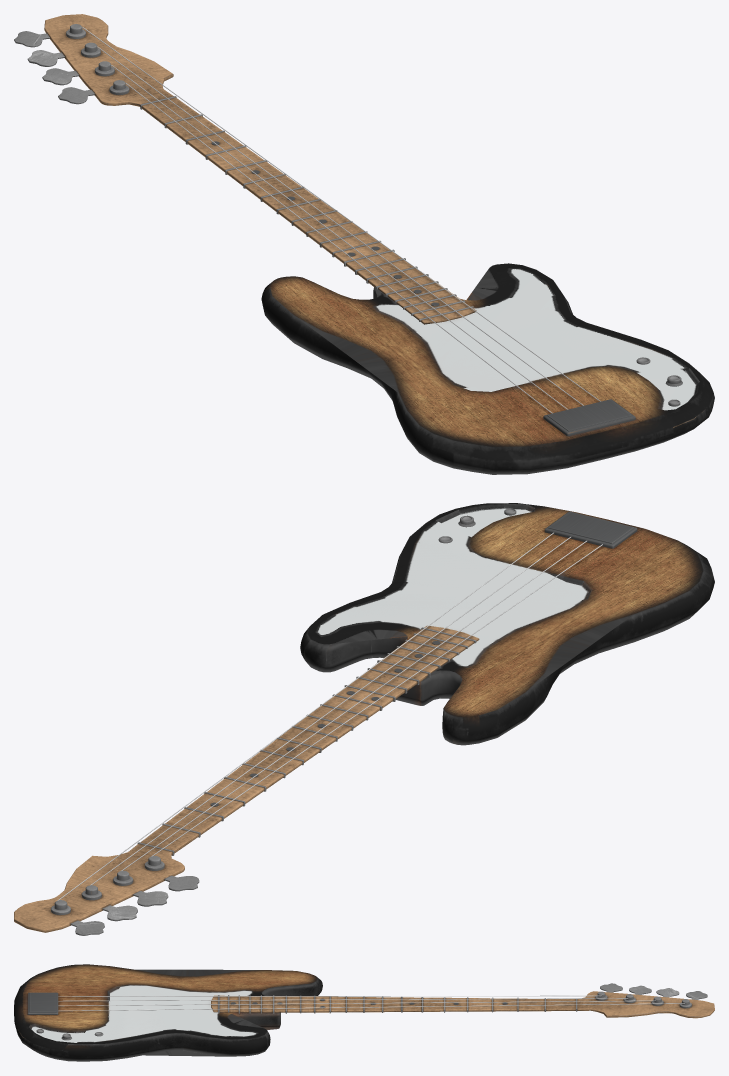
File: bassguitar.fbx
The picture shows the model from 3 angles, top to bottom: view 1: azimuth 30°, elevation 25°; view 2: azimuth 150°, elevation 25°; view 3: azimuth 270°, elevation 25°; orthographic projection. The views are drawn at different scales.
Visible parts, largest first — view 1: Cube, Cube.001, Vert.001, Cube.003, Cube.002; view 2: Cube, Cube.001, Vert.001, Cube.003, Cube.002; view 3: Cube, Cube.001, Vert.001, Cube.002, Cube.003.
Part boxes in pixels (x1=…): Cube: x1=261, y1=263, x2=714, y2=474; Cube.001: x1=44, y1=14, x2=476, y2=324; Vert.001: x1=82, y1=27, x2=600, y2=413; Cube.003: x1=140, y1=96, x2=473, y2=321; Cube.002: x1=543, y1=399, x2=635, y2=436; Cube: x1=300, y1=503, x2=714, y2=745; Cube.001: x1=14, y1=625, x2=479, y2=932; Vert.001: x1=57, y1=532, x2=602, y2=900; Cube.003: x1=137, y1=627, x2=476, y2=855; Cube.002: x1=544, y1=511, x2=637, y2=548; Cube: x1=14, y1=964, x2=322, y2=1061; Cube.001: x1=211, y1=991, x2=714, y2=1018; Vert.001: x1=58, y1=995, x2=684, y2=1011; Cube.002: x1=27, y1=992, x2=58, y2=1014; Cube.003: x1=218, y1=995, x2=577, y2=1013.
Size of the model in its own units: 140 by 18.4 by 495.
Materials: 1 (1 with a texture image).
